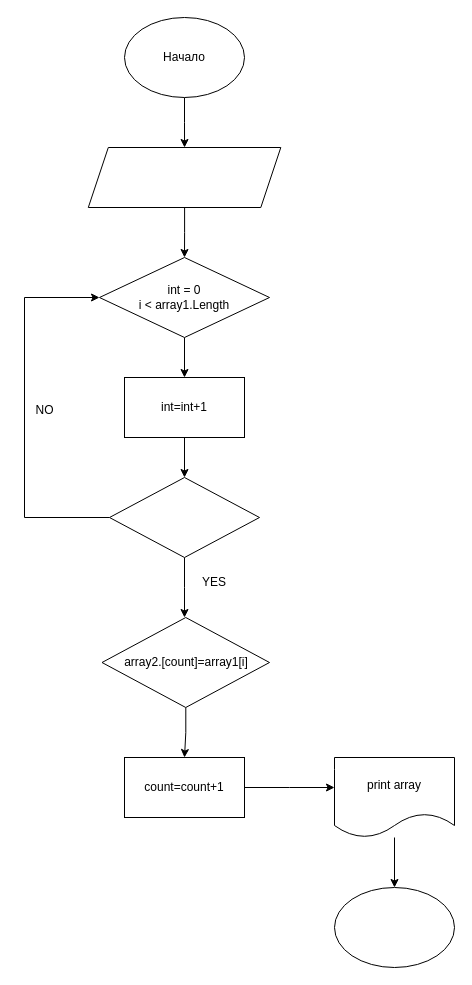
This 472x985 diagram has some shape labels left out. Each missing label, with the centre of its shape:
"array1.[i]Length <=3" belongs at point (184, 517).
"ввод данных массива int count = 0" belongs at point (184, 177).
"конец" belongs at point (394, 927).
